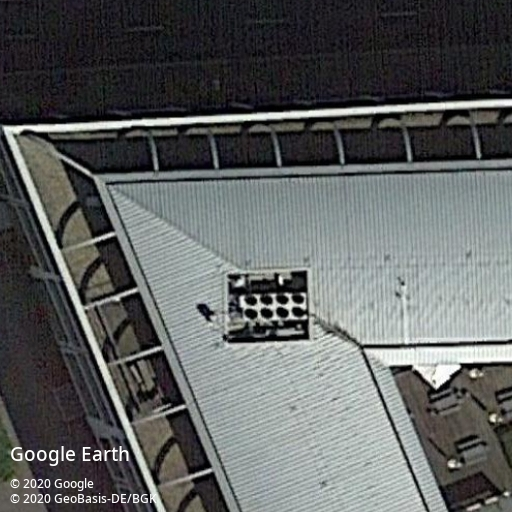Chiller: (239, 291, 308, 323)
